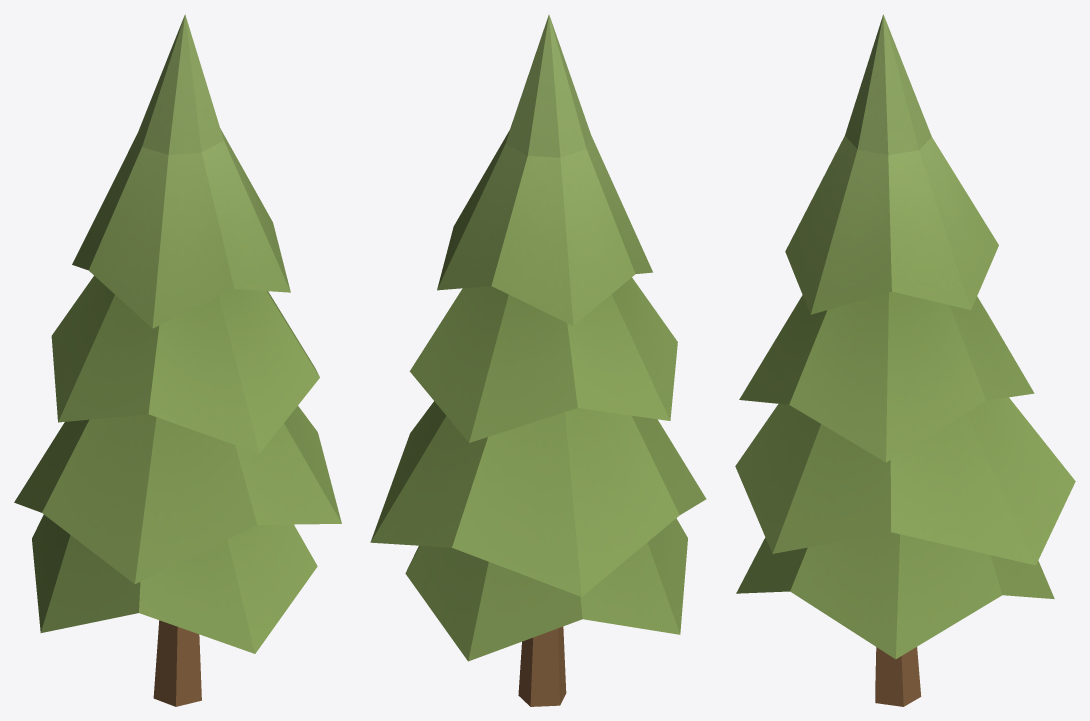
File: Pine_Tree_m_01_LOD.fbx
The picture shows the model from 3 angles, left to right: view 1: azimuth 30°, elevation 25°; view 2: azimuth 150°, elevation 25°; view 3: azimuth 270°, elevation 25°; orthographic projection.
Visible parts, largest first — view 1: Pine_Tree_m_01_LOD0; view 2: Pine_Tree_m_01_LOD0; view 3: Pine_Tree_m_01_LOD0.
Boxes of the visible parts, x1=… form: Pine_Tree_m_01_LOD0: x1=14, y1=14, x2=341, y2=706; Pine_Tree_m_01_LOD0: x1=370, y1=14, x2=706, y2=706; Pine_Tree_m_01_LOD0: x1=735, y1=14, x2=1075, y2=706.
Size of what is drawn, in the model's own units: 404 by 964 by 436.
